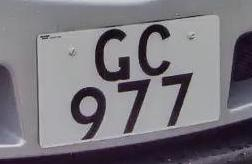7: (112, 74, 159, 138), (156, 69, 200, 130)
9: (59, 79, 115, 142)
C: (131, 15, 179, 83)
G: (87, 20, 136, 89)
